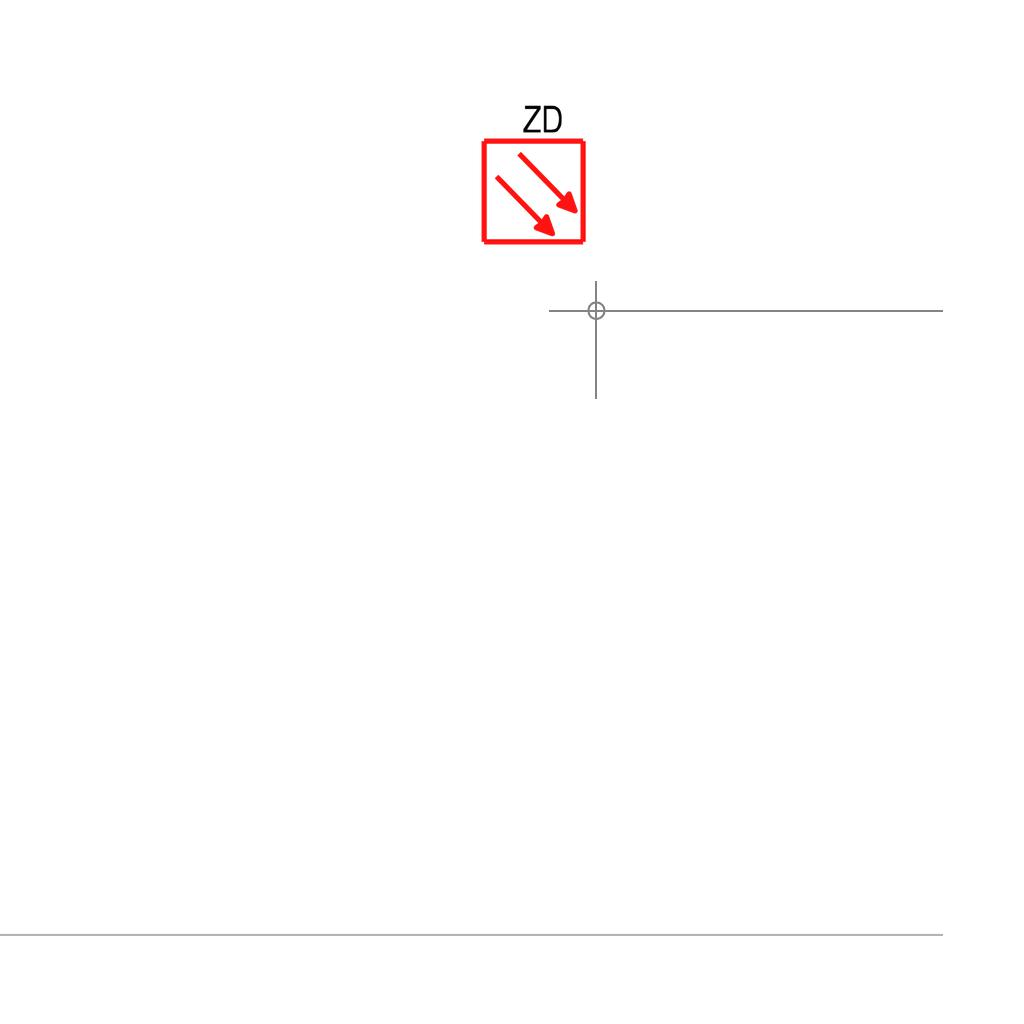ZD_Melder_in_Zwischendecke_mit_Revisionsoeffnung_mind_40_x_40_cm: (475, 98, 589, 247)
